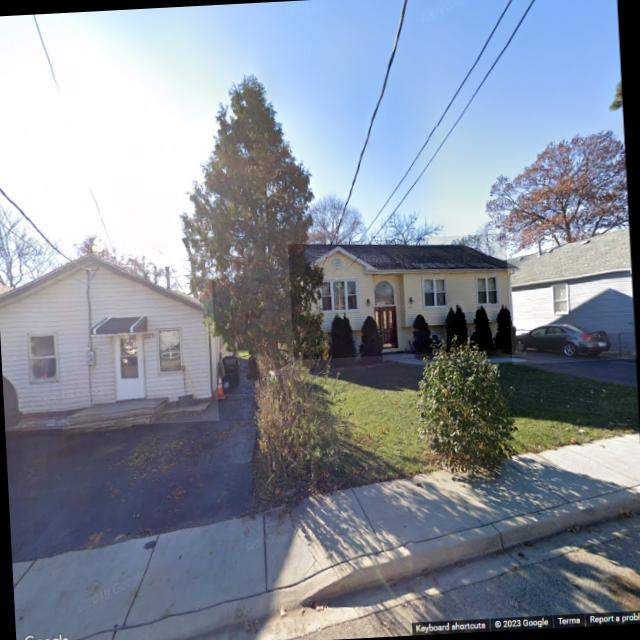House: (0, 246, 219, 431), (288, 232, 524, 360), (506, 226, 638, 366)
